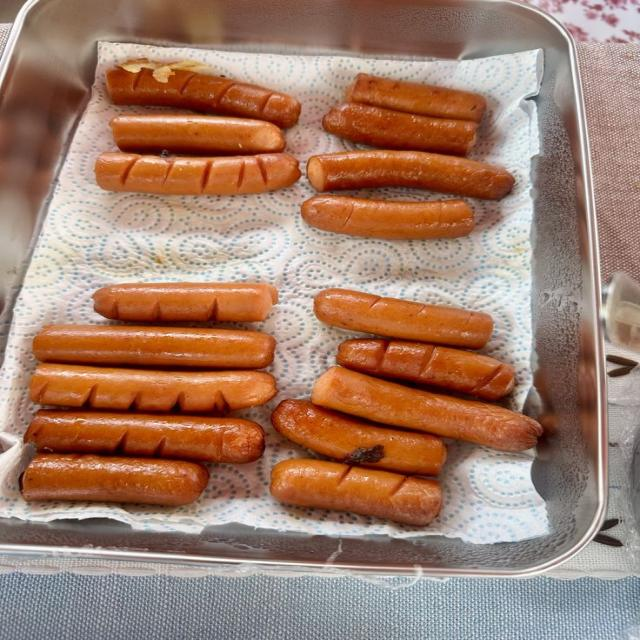sausage: (312, 367, 541, 451), (272, 400, 446, 476), (24, 410, 264, 463), (30, 364, 276, 413), (107, 69, 300, 128), (270, 459, 441, 525), (314, 289, 493, 349), (337, 340, 514, 400), (34, 325, 275, 369), (307, 151, 514, 199), (21, 454, 208, 506), (95, 153, 300, 195), (323, 102, 477, 155), (301, 195, 473, 239), (93, 283, 278, 322), (110, 115, 285, 155), (346, 74, 486, 122)
